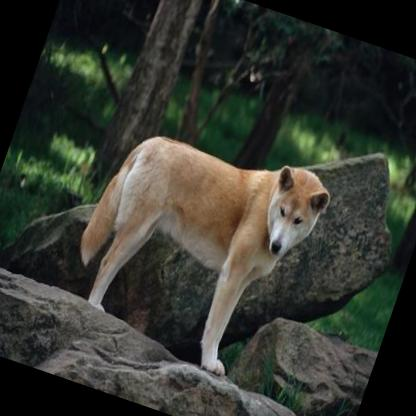dingo: (52, 102, 338, 392)
